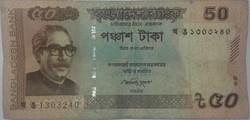50 taka: (2, 2, 247, 118)
